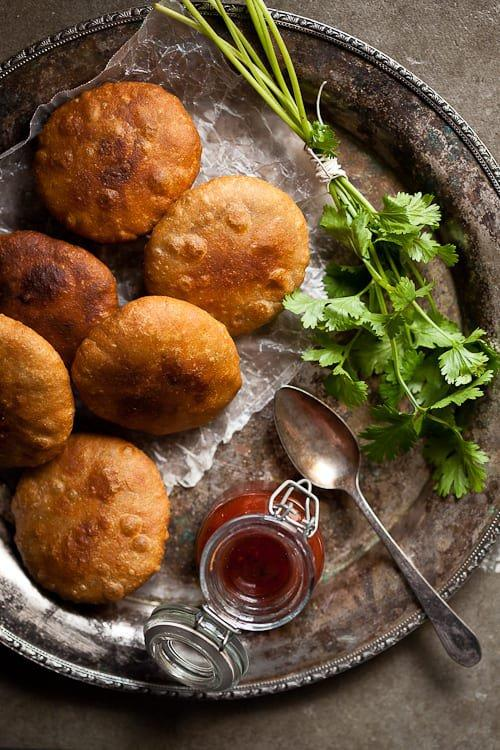kachori: (10, 113, 299, 687)
